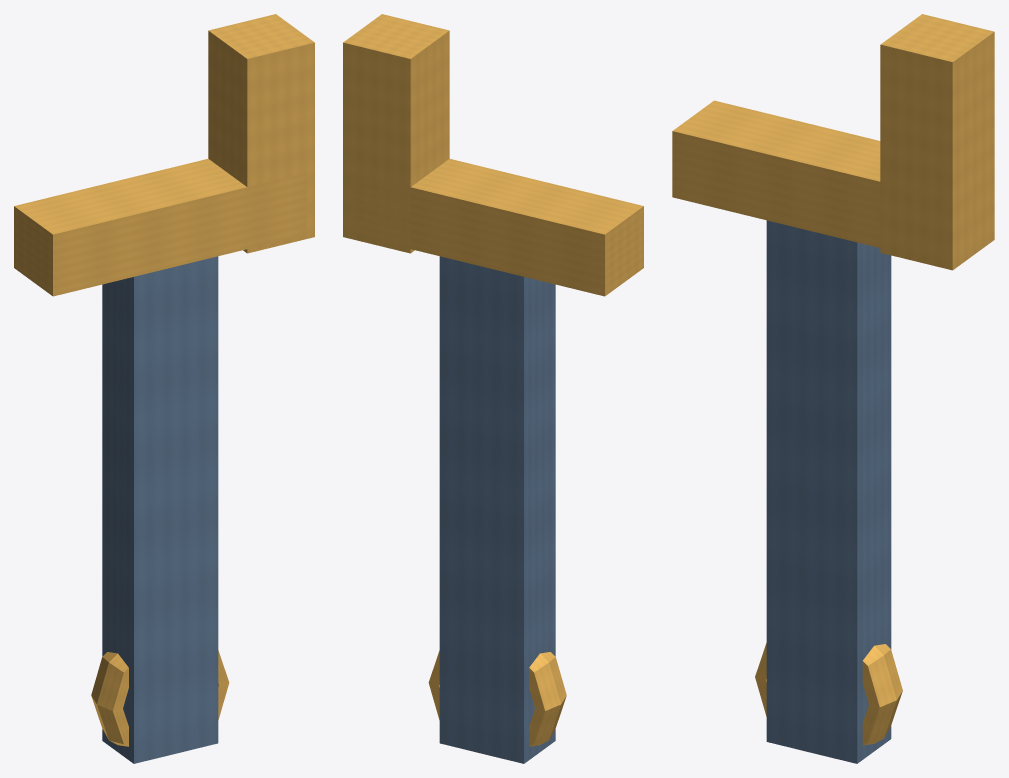
Rendered from atlas100-s052-a05.lod1.glb.
3 renders of one model, left to right at view 1: azimuth 30°, elevation 25°; view 2: azimuth 150°, elevation 25°; view 3: azimuth 330°, elevation 25°, orthographic. The views are drawn at different scales.
Visible parts, largest first — view 1: atlas100-s052-a05:part-000, atlas100-s052-a05:part-003, atlas100-s052-a05:part-002, atlas100-s052-a05:part-004; view 2: atlas100-s052-a05:part-000, atlas100-s052-a05:part-003, atlas100-s052-a05:part-002, atlas100-s052-a05:part-004; view 3: atlas100-s052-a05:part-000, atlas100-s052-a05:part-002, atlas100-s052-a05:part-003, atlas100-s052-a05:part-004.
Part boxes in pixels (x1,y1,x2,y2): atlas100-s052-a05:part-000: (102,256,218,763); atlas100-s052-a05:part-003: (14,158,306,296); atlas100-s052-a05:part-002: (208,14,314,253); atlas100-s052-a05:part-004: (91,650,229,746); atlas100-s052-a05:part-000: (439,256,555,763); atlas100-s052-a05:part-003: (351,158,643,296); atlas100-s052-a05:part-002: (343,14,449,253); atlas100-s052-a05:part-004: (428,650,566,746); atlas100-s052-a05:part-000: (766,220,891,763); atlas100-s052-a05:part-002: (880,14,994,270); atlas100-s052-a05:part-003: (672,100,943,261); atlas100-s052-a05:part-004: (755,643,902,745).
Size of the model in its own units: 0.3385 by 0.8532 by 0.0874.
Materials: 2 (2 with a texture image).
